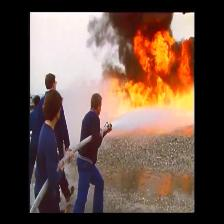fire: (121, 36, 194, 102)
smoke: (106, 10, 166, 29)
